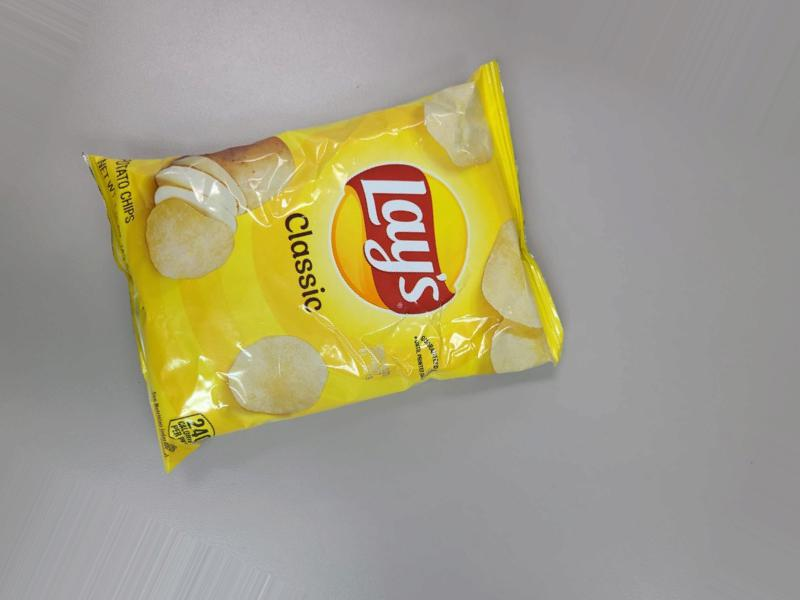lays: (184, 34, 501, 446)
